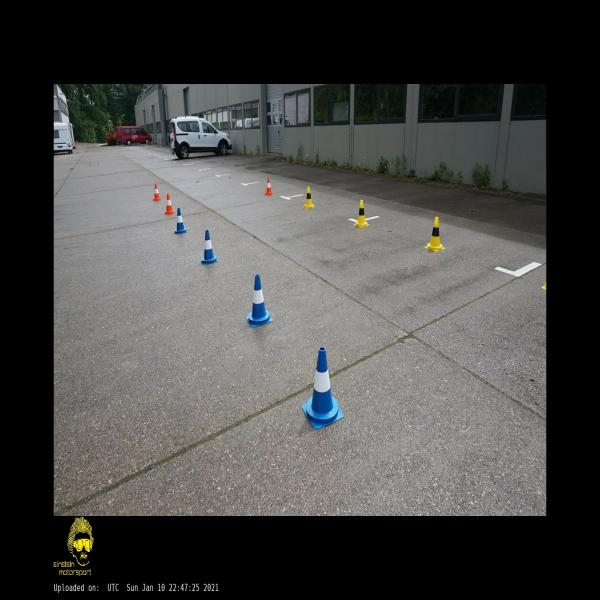blue_cone: (302, 347, 344, 431), (246, 274, 273, 327), (200, 230, 218, 264), (174, 208, 187, 234)
orange_cone: (164, 194, 175, 214), (152, 184, 162, 201), (264, 178, 274, 195)
yellow_cone: (424, 217, 445, 252), (355, 200, 369, 227), (303, 186, 315, 209)
